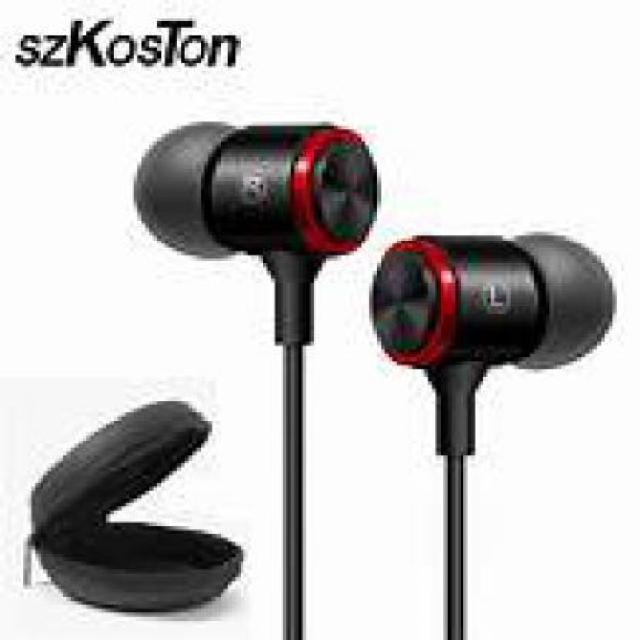earphone: (124, 124, 626, 640)
